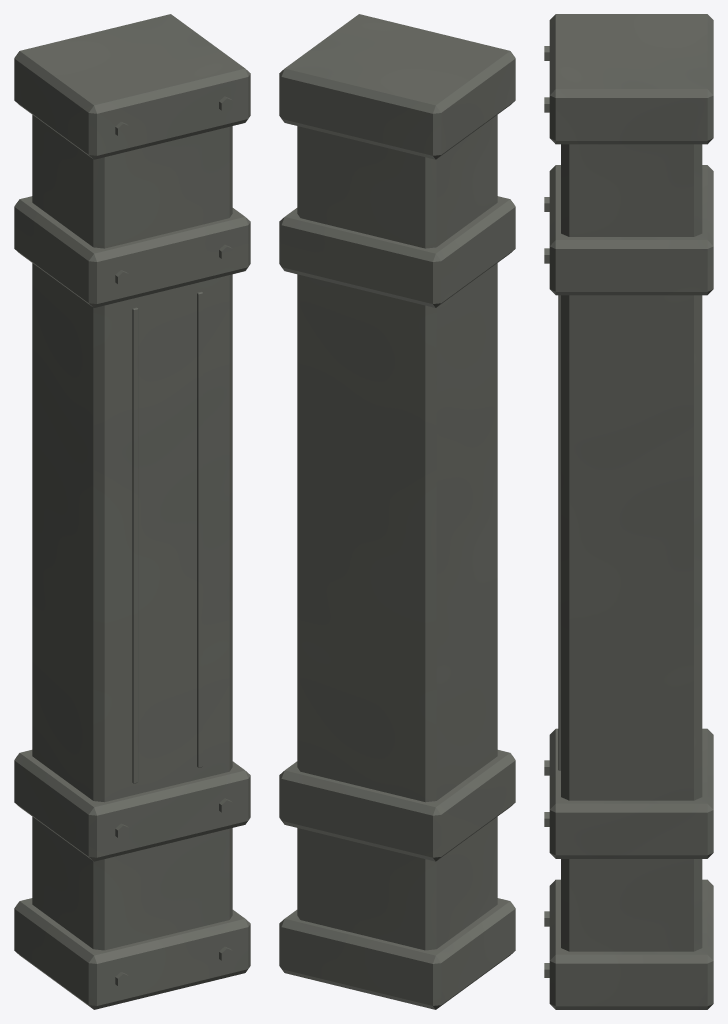
File: WarrensC_CCS39_CounterweightCase_Mars_SM.fbx
The picture shows the model from 3 angles, left to right: view 1: azimuth 30°, elevation 25°; view 2: azimuth 150°, elevation 25°; view 3: azimuth 270°, elevation 25°; orthographic projection.
Visible parts, largest first — view 1: WarrensC_CCS39_CounterweightCase_Mars_SM.001; view 2: WarrensC_CCS39_CounterweightCase_Mars_SM.001; view 3: WarrensC_CCS39_CounterweightCase_Mars_SM.001.
Part boxes in pixels (left/top/right/bottom): WarrensC_CCS39_CounterweightCase_Mars_SM.001: left=14, top=14, right=250, bottom=1009; WarrensC_CCS39_CounterweightCase_Mars_SM.001: left=279, top=14, right=515, bottom=1009; WarrensC_CCS39_CounterweightCase_Mars_SM.001: left=544, top=14, right=713, bottom=1009.
Bounding box in the file's own units: 45 × 40 × 240.
